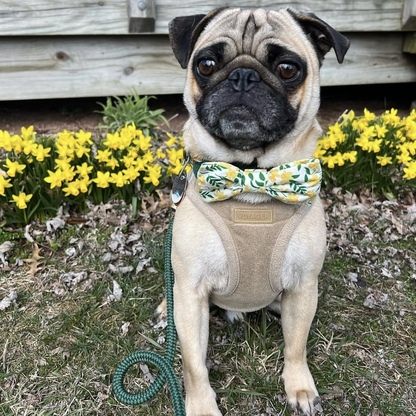Pug: (152, 2, 340, 416)
